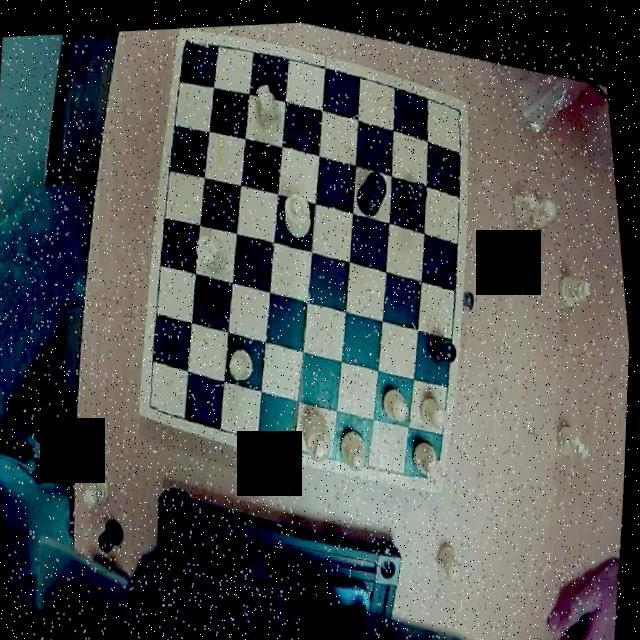chess-table-corners: (142, 378, 182, 422), (174, 24, 212, 65), (412, 445, 450, 486), (438, 86, 469, 122)
